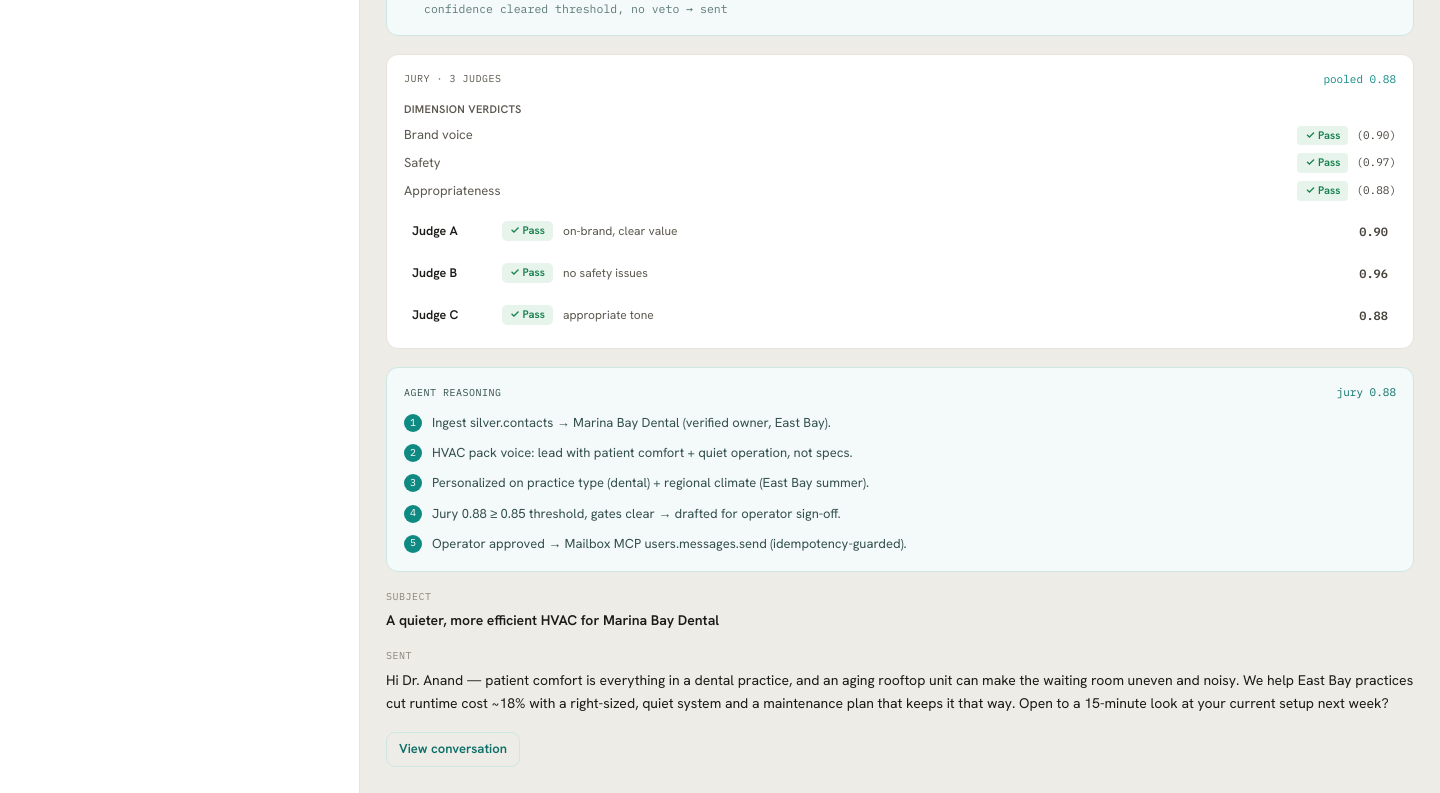
Scenario: ActivityScreen — executed work + reasoning, on the mock adapter spine › "View conversation" expands the reply thread
(page scrolled)
What coordinates should you click on to do the following:
click the button "View conversation"
I would click on:
 (453, 749)
Its box is [386,732,520,767].
(page scrolled)
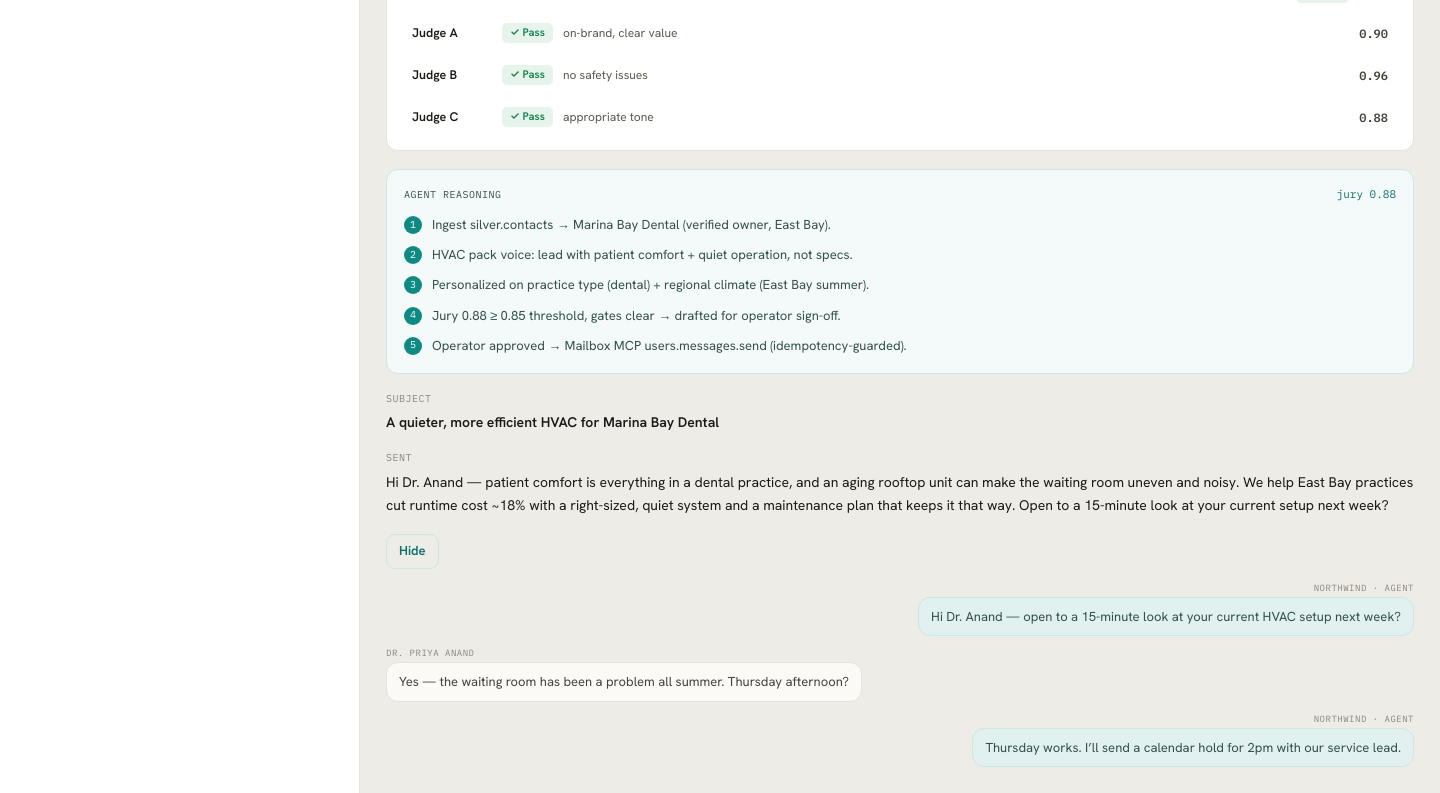
Expected: the text "Dr. Priya Anand" is shown, [386,647,474,658]
Expected: the text "Thursday afternoon" is shown, [399,673,849,690]
